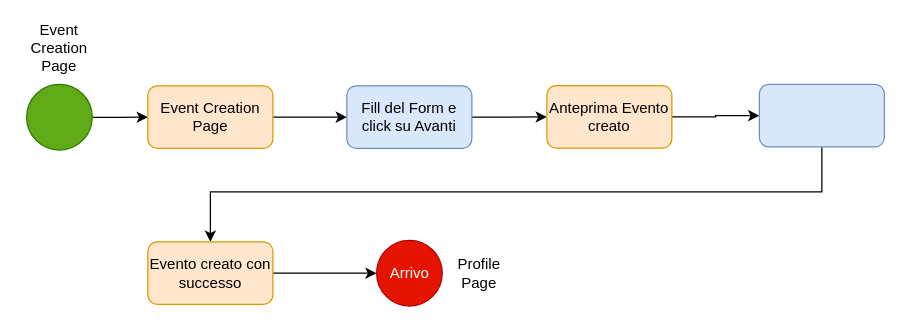
The diagram is 906 pixels wide and 329 high, and some of its shapes have lost their labels. Here are the shapes that lost their labels. From the top down, the centre of each, then its label:
At point 58,116: "Inizio".
At point 821,115: "Click su Crea Evento".
